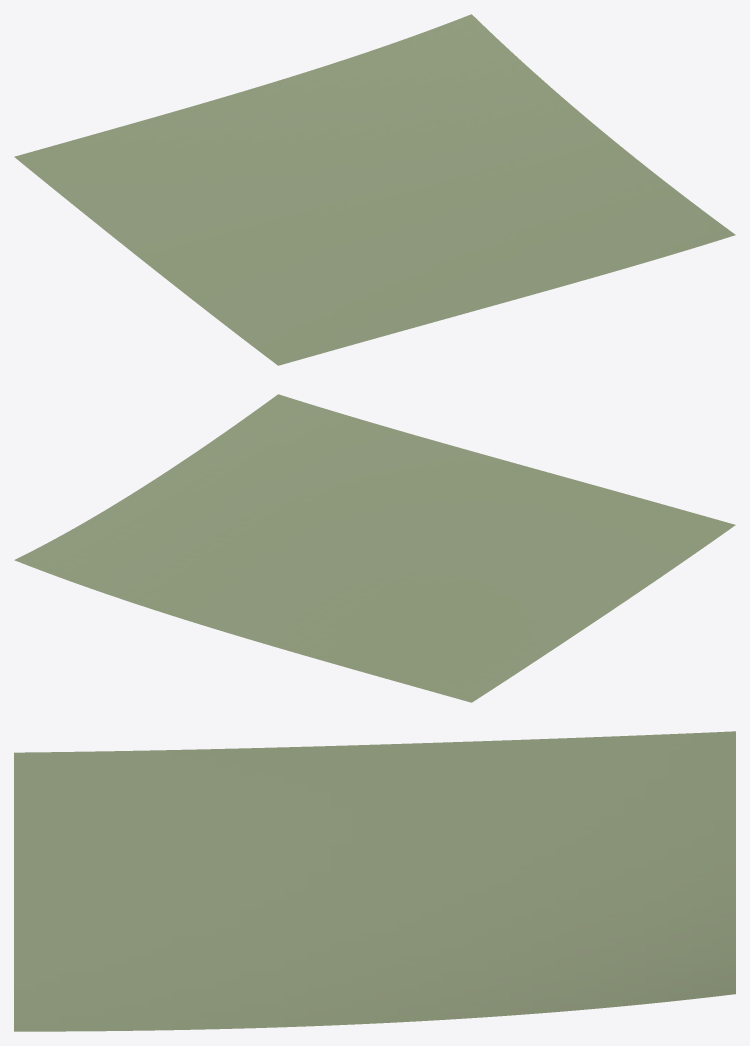
Rendered from expanse-26-24.glb.
3 views of the same model, one above another, from view 1: azimuth 30°, elevation 25°; view 2: azimuth 150°, elevation 25°; view 3: azimuth 270°, elevation 25° (orthographic). The views are drawn at different scales.
Visible parts, largest first — view 1: expanse-26-24; view 2: expanse-26-24; view 3: expanse-26-24.
Part boxes in pixels (box(x1,y1,x2,y2)): expanse-26-24: box(14, 14, 735, 365); expanse-26-24: box(14, 394, 735, 702); expanse-26-24: box(14, 731, 735, 1031).
Size of the model in its own units: 256 by 24.88 by 256.
